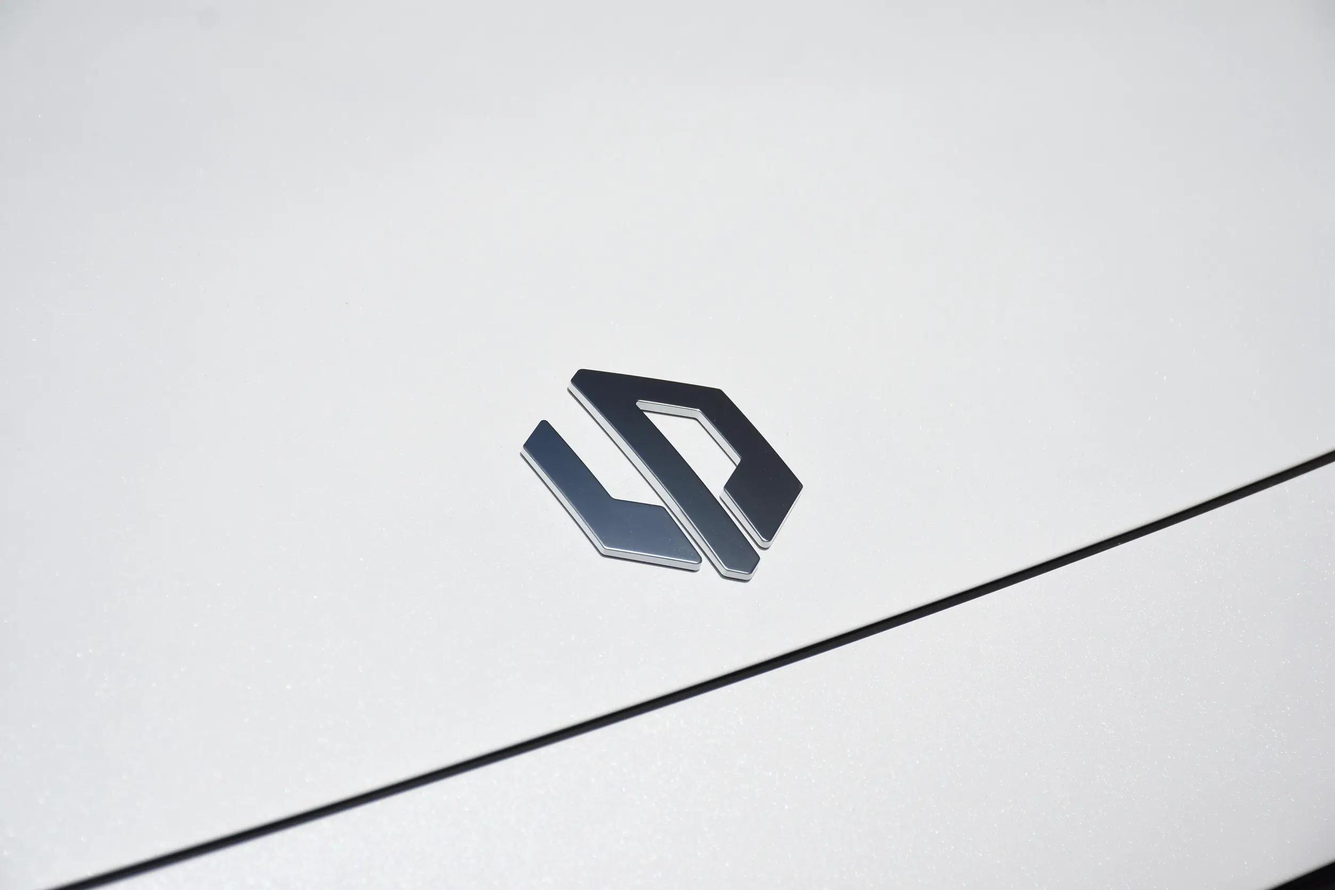LEAPMOTOR: (519, 368, 804, 583)
